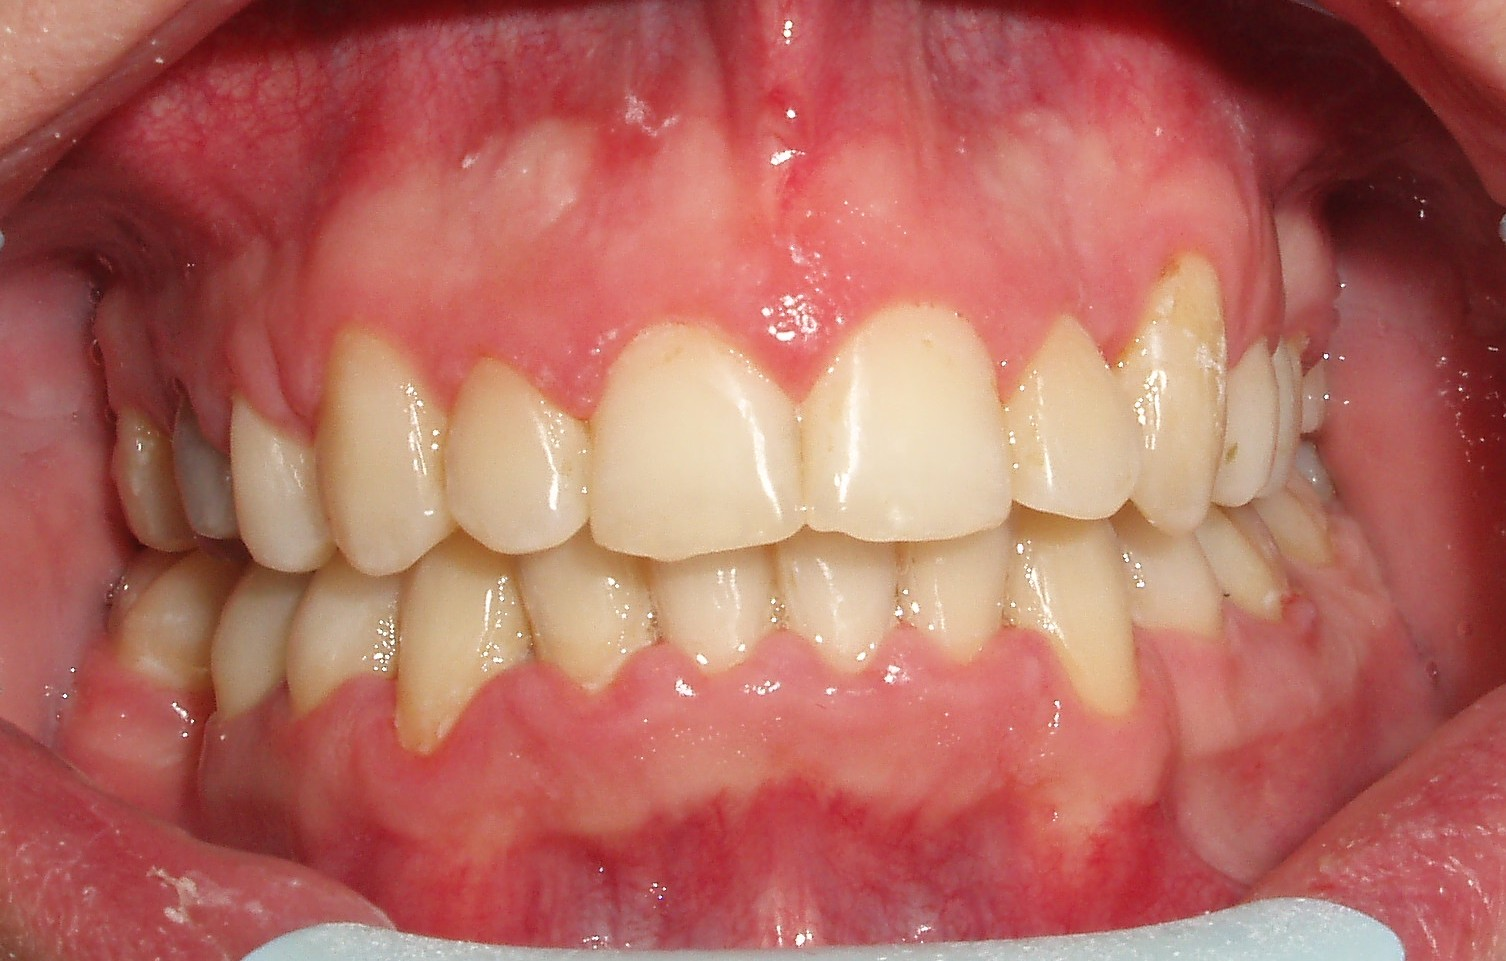LL1BC_healthy: (1126, 526, 1215, 644)
LL2BC_healthy: (1207, 516, 1303, 634)
LLCI_healthy: (782, 543, 897, 679)
LLC_healthy: (1011, 516, 1129, 660)
LLLI_healthy: (900, 533, 1003, 662)
LR1BC_healthy: (288, 577, 400, 728)
LR1M_healthy: (103, 548, 211, 690)
LR2BC_healthy: (211, 573, 294, 723)
LRCI_healthy: (654, 550, 774, 682)
LRC_healthy: (392, 560, 527, 753)
LRLI_healthy: (533, 557, 659, 692)
UL1BC_decay: (1222, 326, 1265, 513)
ULCI_healthy: (808, 302, 1010, 540)
ULC_healthy: (1129, 260, 1220, 526)
ULLI_healthy: (1015, 316, 1131, 518)
UR1BC_healthy: (227, 395, 329, 571)
UR1M_healthy: (115, 410, 190, 554)
UR2BC_healthy: (176, 373, 232, 541)
URCI_healthy: (587, 326, 800, 562)
URC_healthy: (327, 319, 441, 571)
URLI_healthy: (443, 351, 589, 556)
